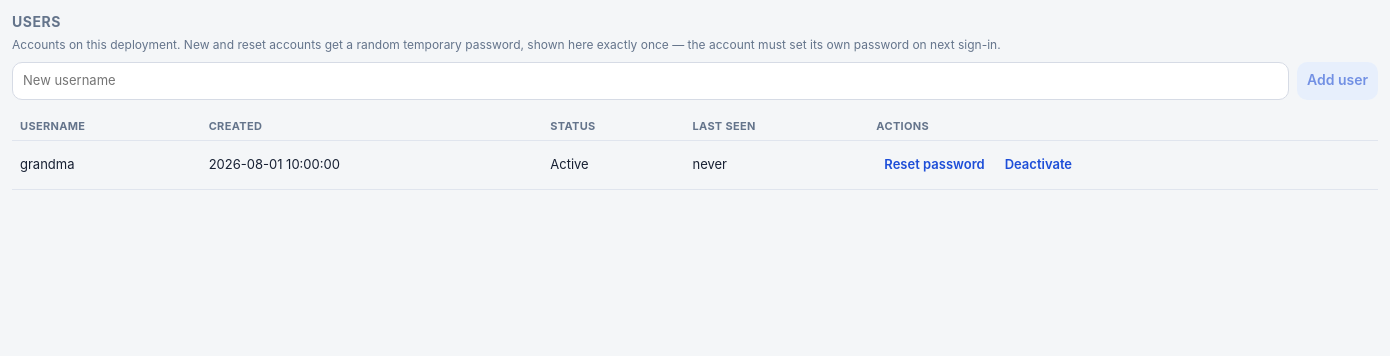
Scenario: Users › creates a user and reveals the temporary password once
The image size is (1390, 356).
Check: the text "grandma" is shown, box left=12, top=140, right=201, bottom=190
Step 1. Type "newkid" into the field labelled "New username" → (650, 81), box left=12, top=62, right=1289, bottom=100
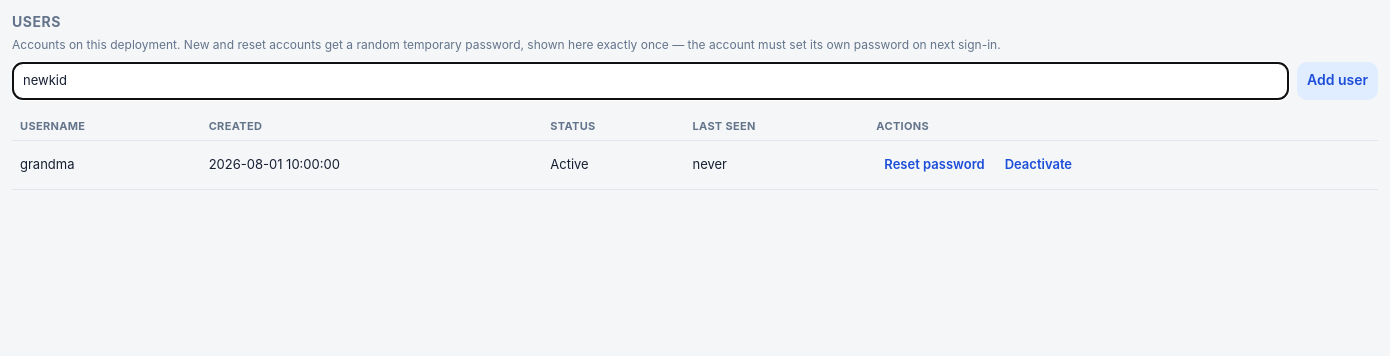
Step 2. Click the button "Add user" → (1337, 81), box left=1297, top=62, right=1378, bottom=100
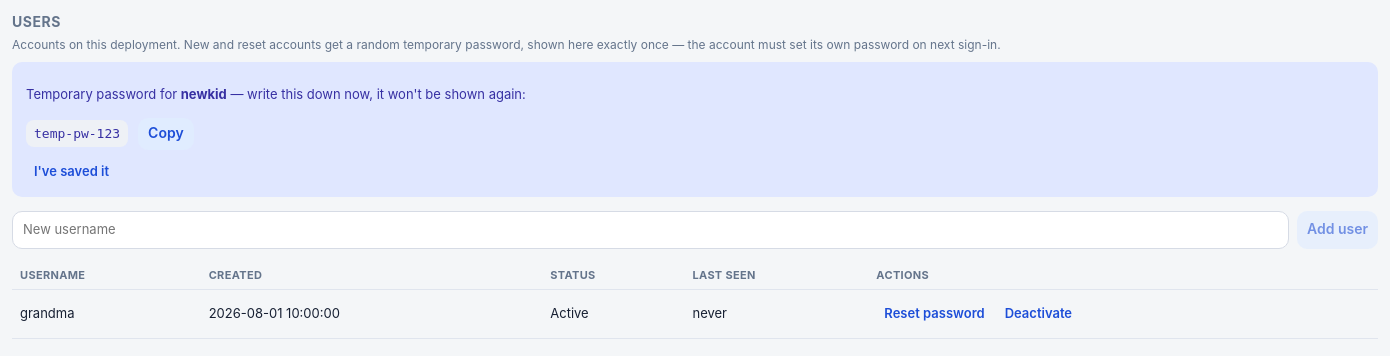
Check: the text "temp-pw-123" is shown, box left=26, top=120, right=128, bottom=147
Check: the text "write this down now" is shown, box left=227, top=86, right=526, bottom=102
Dismissing the reveal clears it.
Step 3. Click the button "I've saved it" → (72, 171), box left=26, top=156, right=117, bottom=187
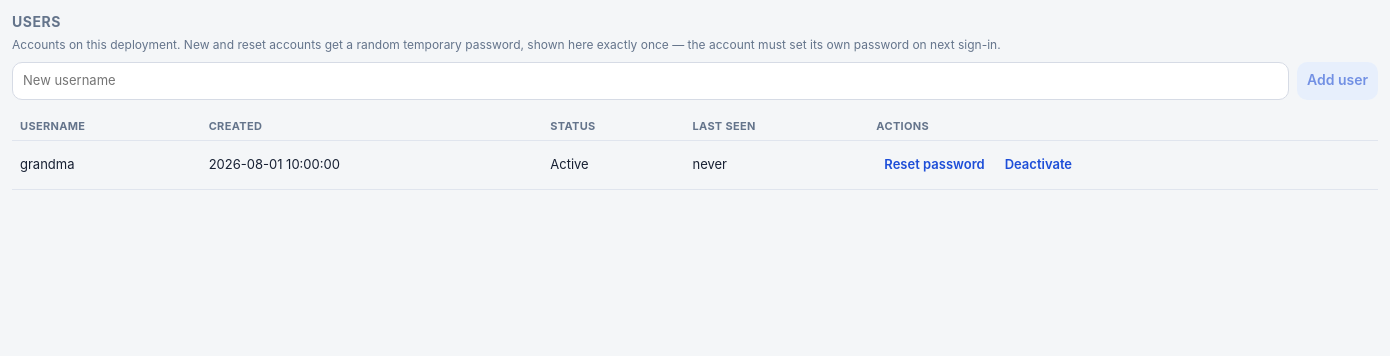
Check: the text "temp-pw-123" is gone
